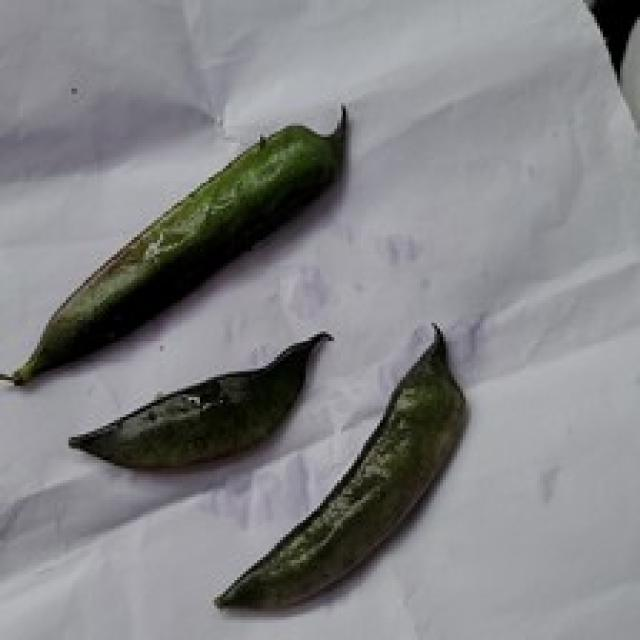Bean: (0, 100, 349, 386), (212, 320, 468, 611), (66, 328, 331, 468)
